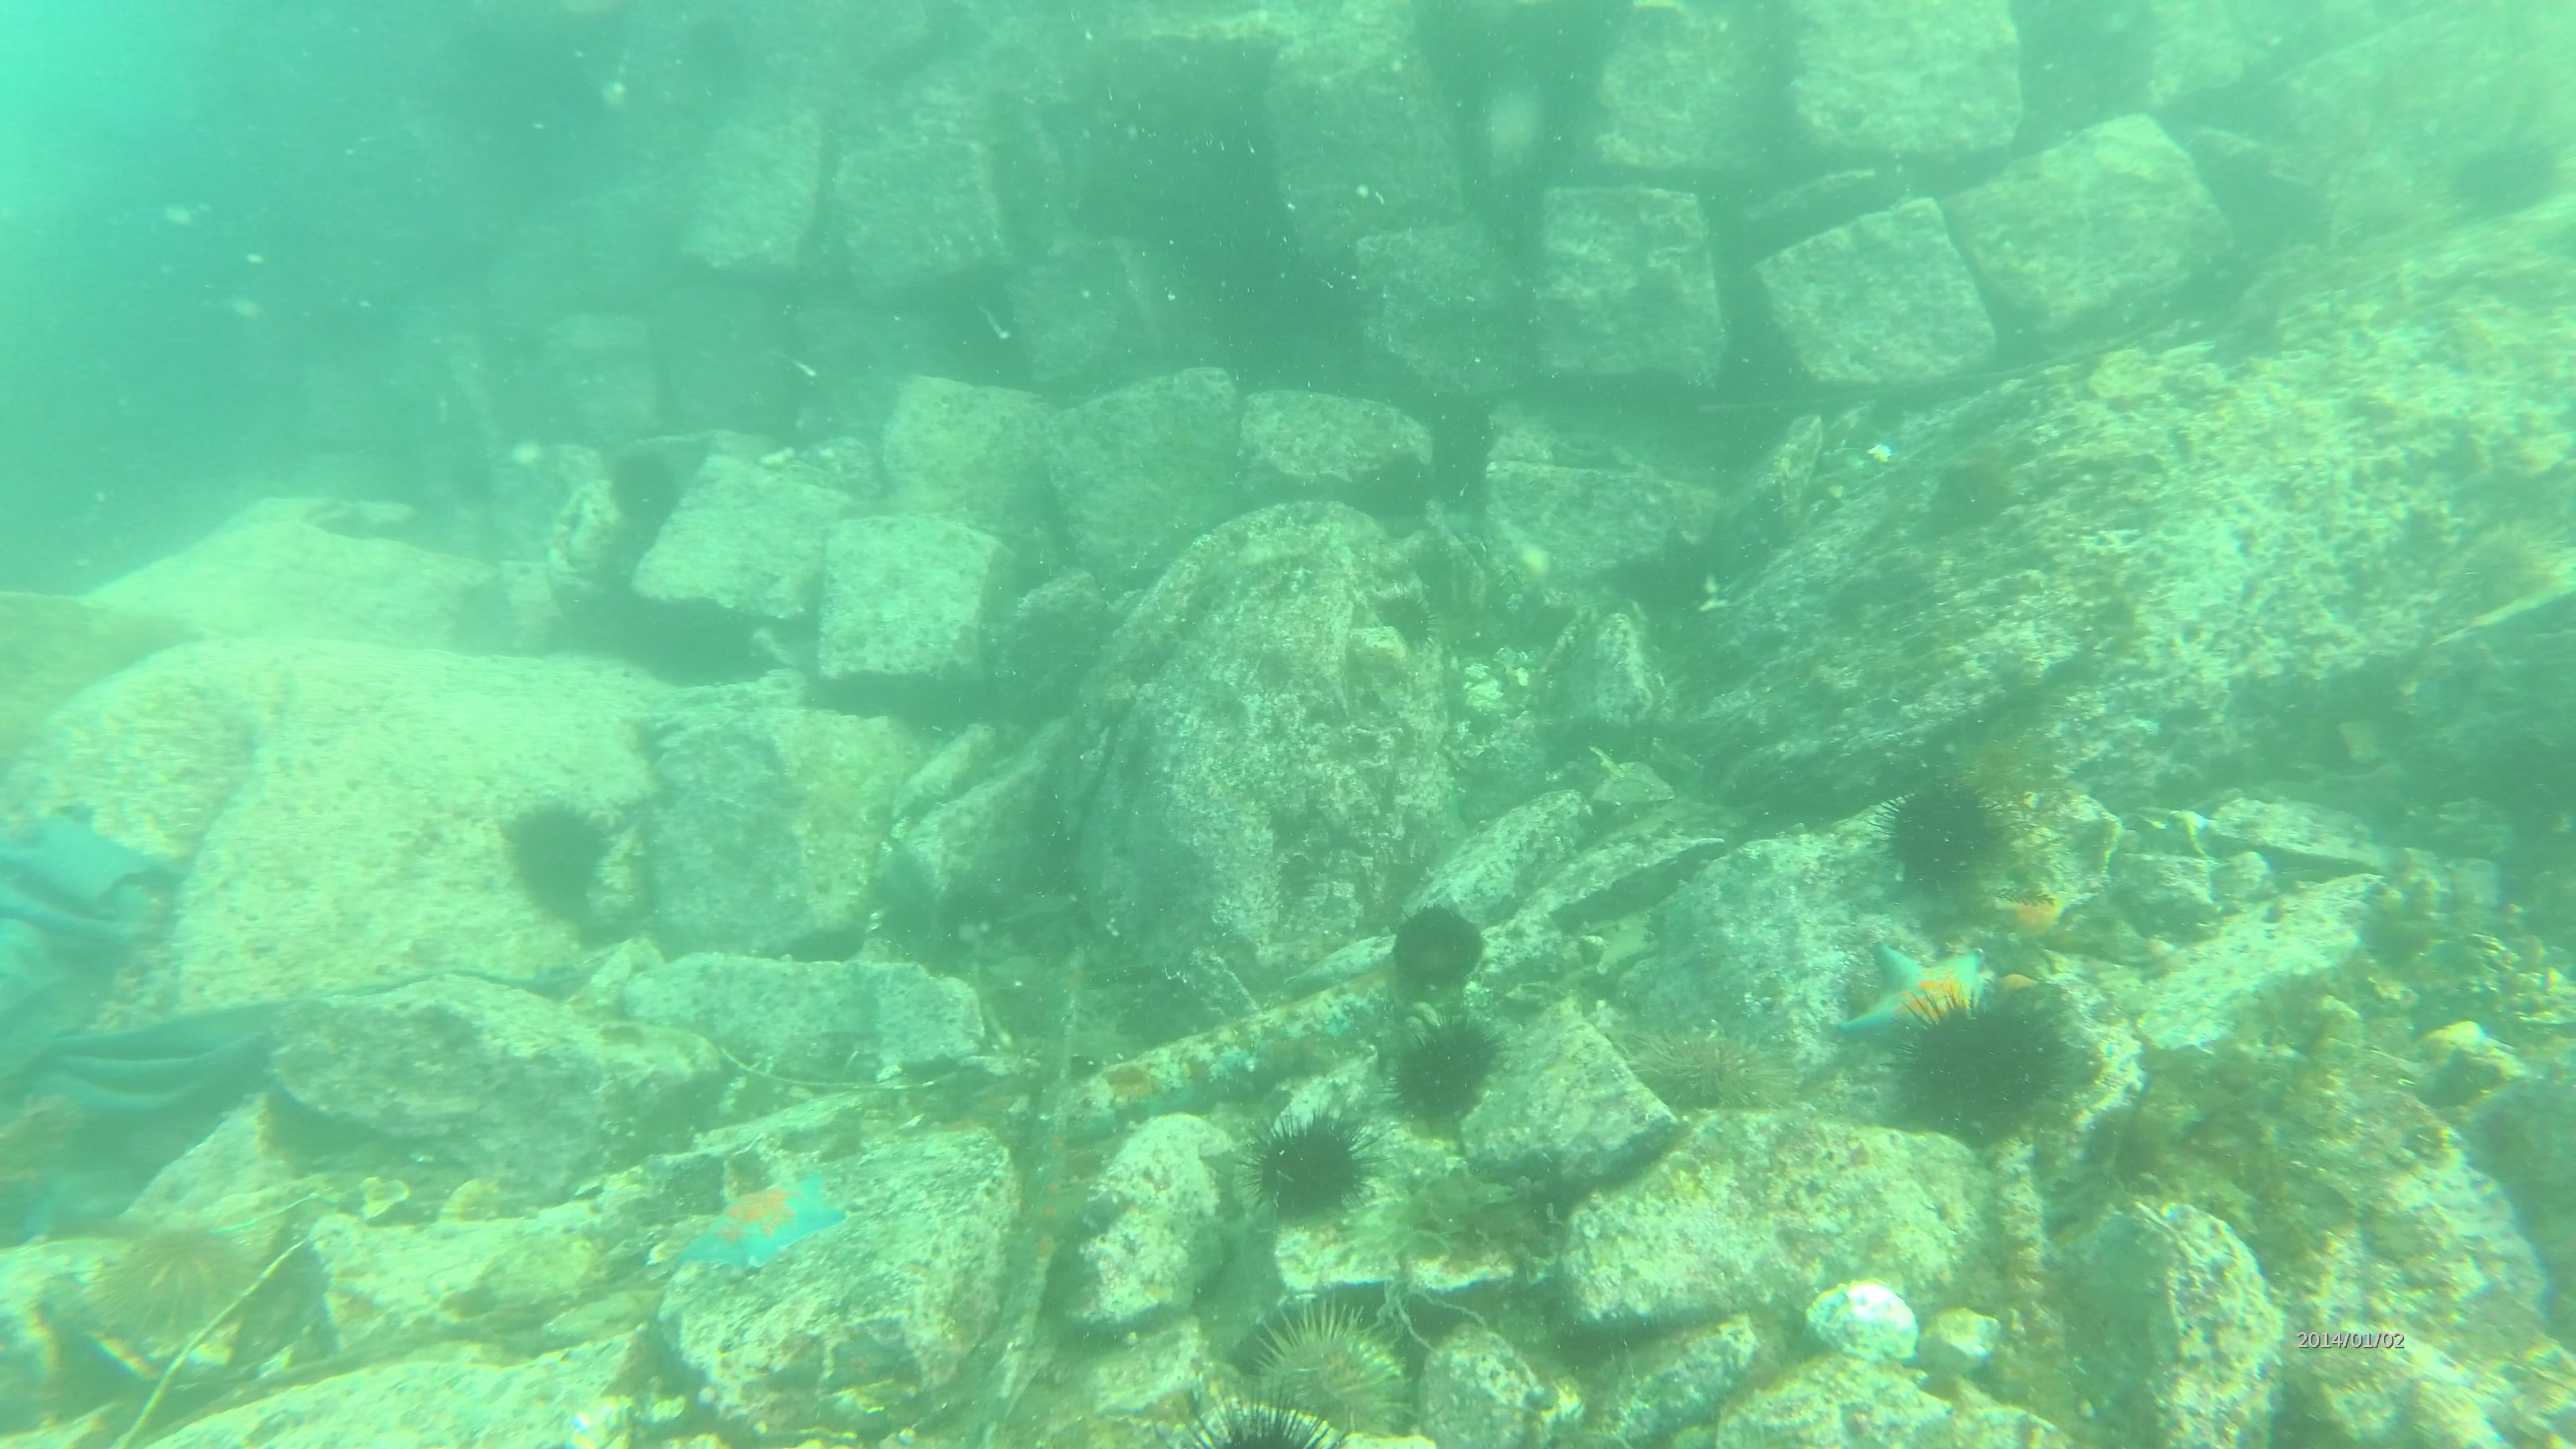echinus: (1900, 994, 2079, 1145), (1244, 1304, 1396, 1445), (92, 1215, 253, 1343), (1861, 778, 2029, 888), (1635, 1019, 1794, 1125), (1237, 1106, 1376, 1224), (490, 810, 617, 918), (1392, 1016, 1499, 1113), (1376, 901, 1486, 978)
scallop: (1805, 1276, 1928, 1368)
starfish: (1833, 932, 2001, 1051), (678, 1171, 849, 1279)
